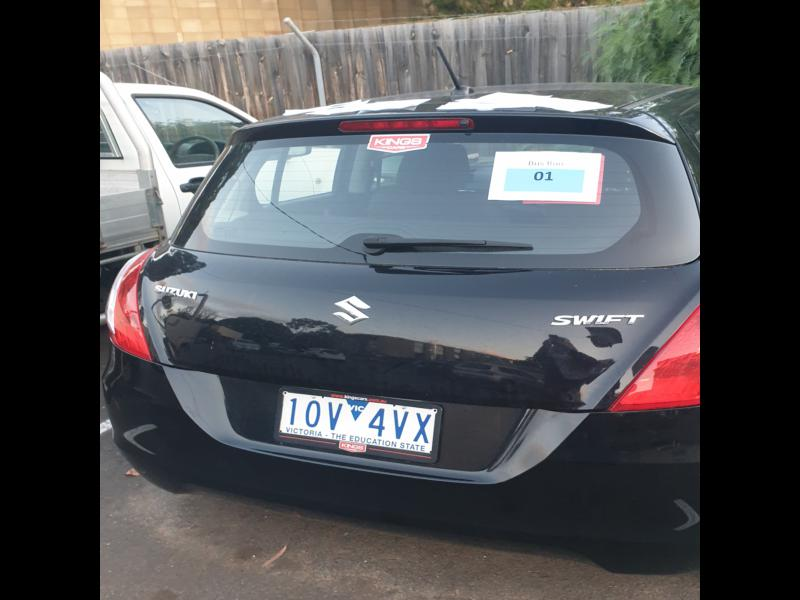BusRun: (502, 167, 586, 193)
PlateNo: (277, 389, 438, 455)
